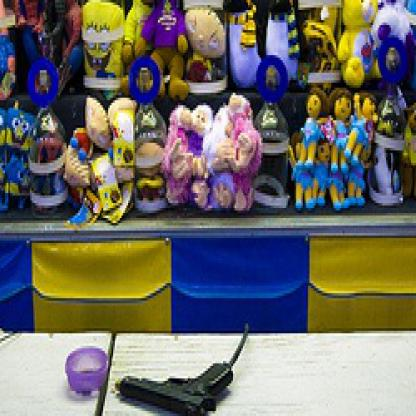gun: (108, 348, 236, 414)
